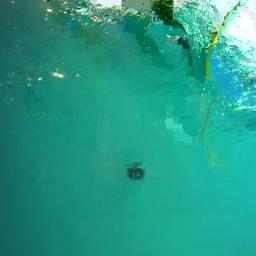Side: (126, 164, 145, 180), (128, 164, 145, 180)
